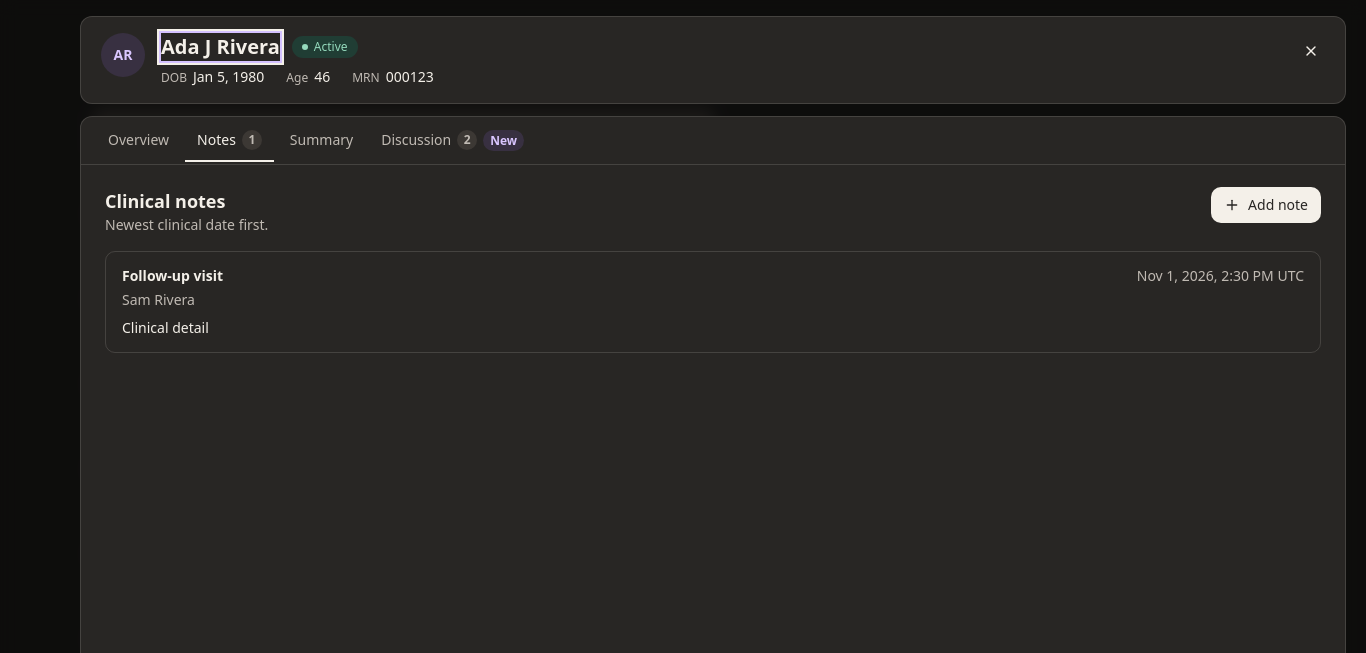
Test: patient workspace routes and visit state › keeps a mounted note draft during a failed patient refresh and its retry
Click the button "Add note" at (1266, 205), box [1211,187,1321,223]
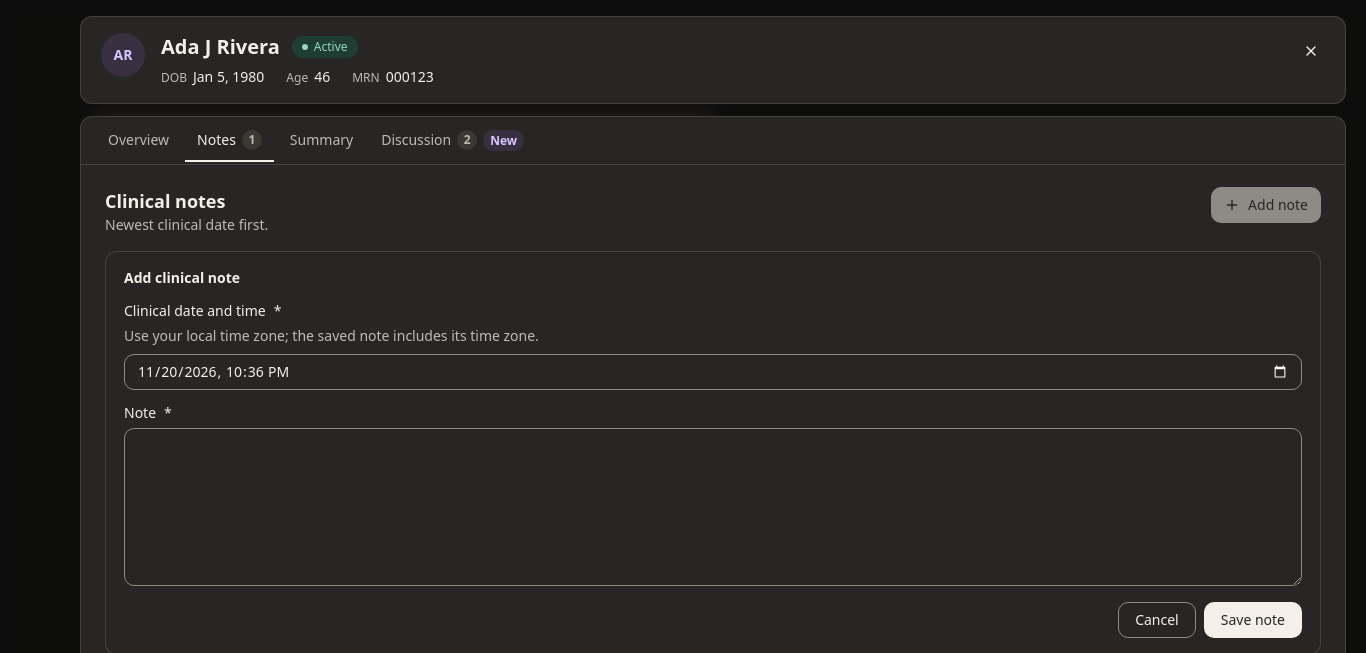
Type "Keep this clinical draft through a temporary outage." into the text box labelled "Note *" at (713, 507), box [124,428,1302,586]
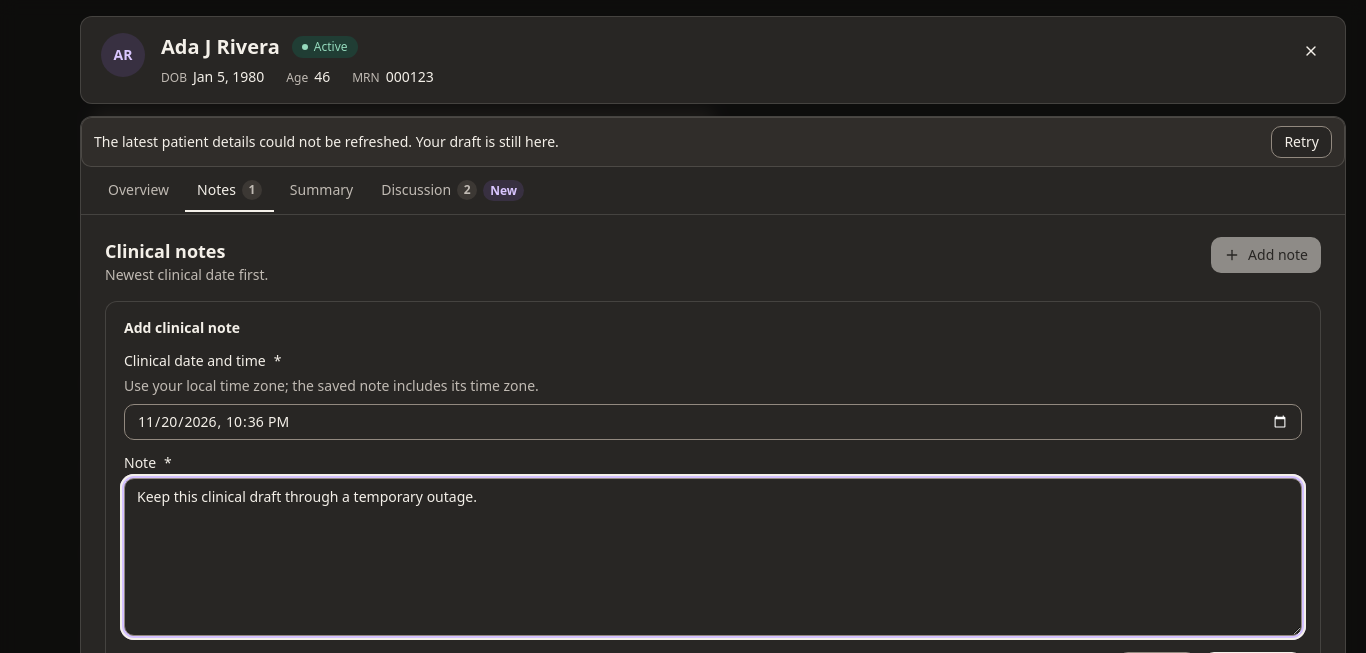
Expected: the text "Your draft is still here" is shown, [94,132,559,151]
Click the button "Retry" at (1302, 142), box [1271,126,1332,158]
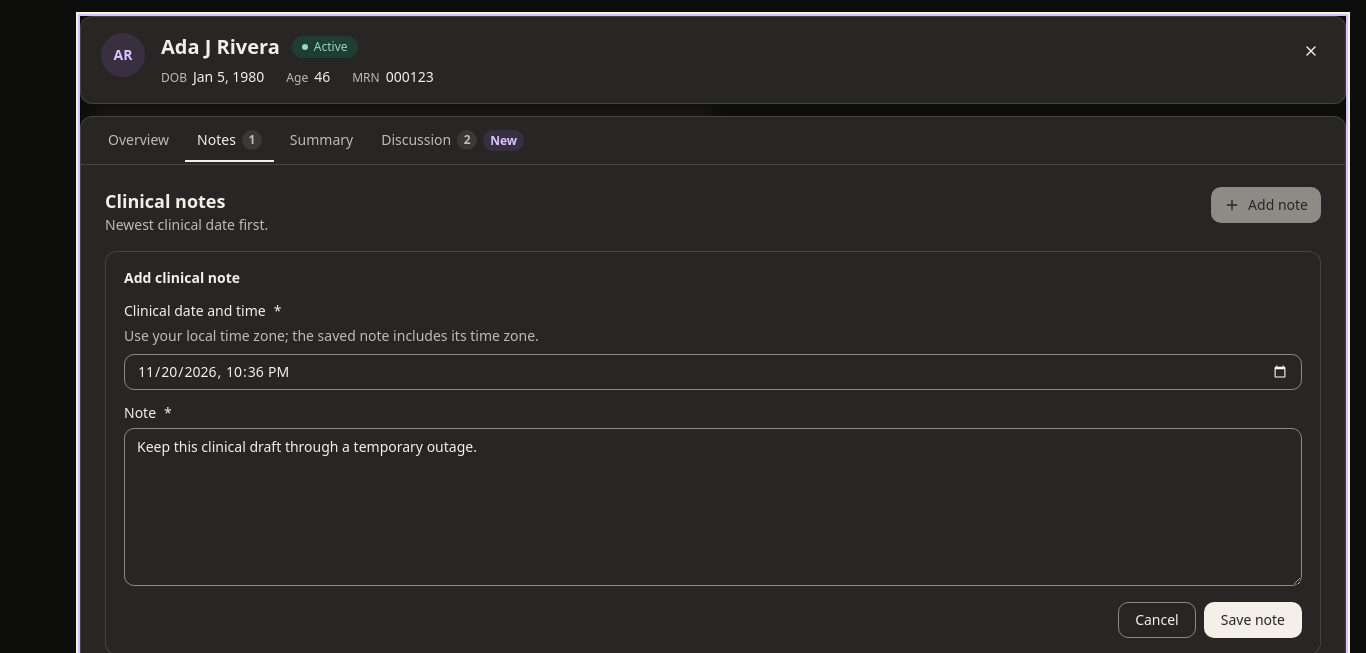
Expected: the text "Your draft is still here" is gone
